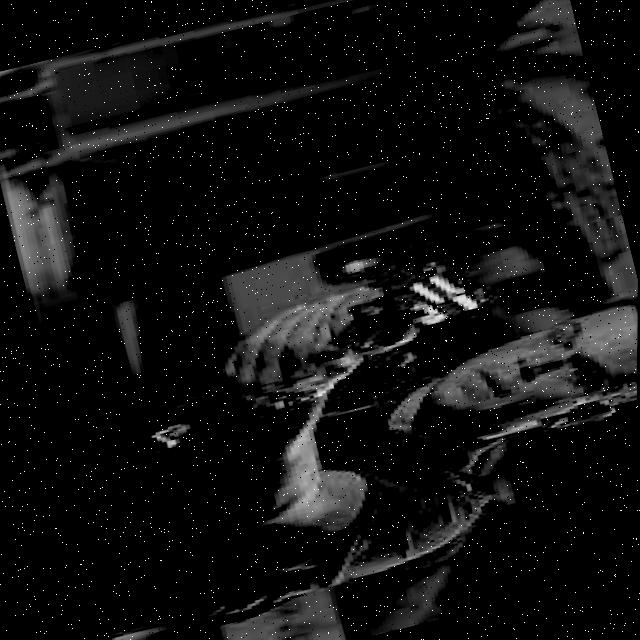pistol: (336, 246, 502, 344)
